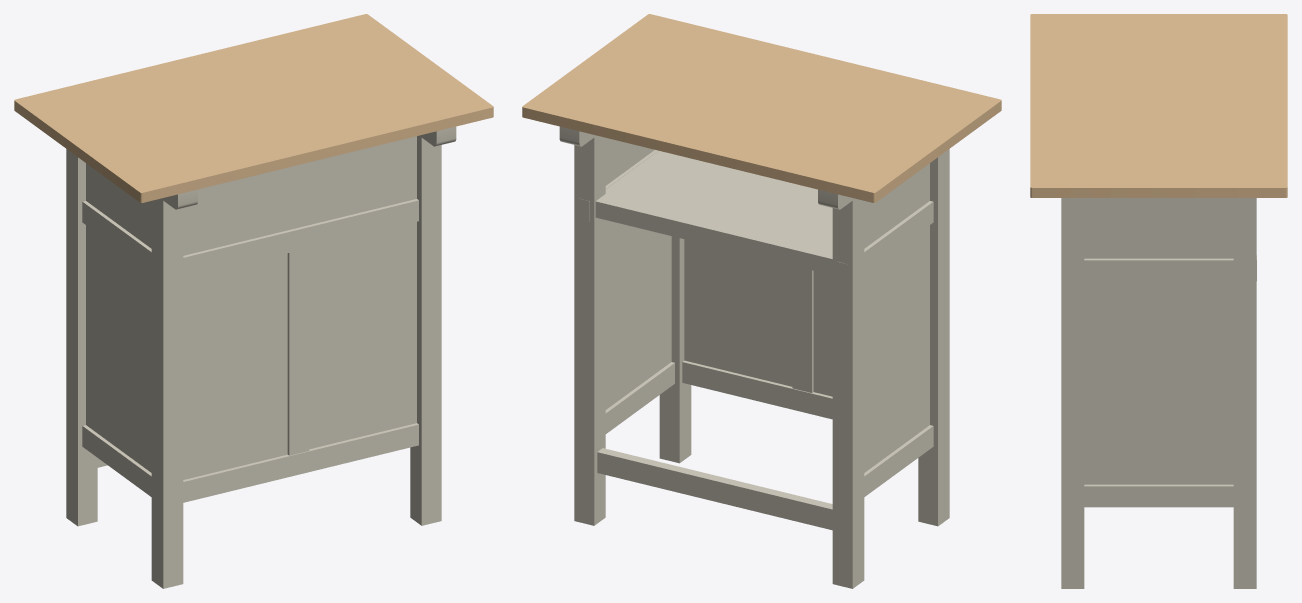
The model's file is TeacherDesk.fbx.
The picture shows the model from 3 angles, left to right: view 1: azimuth 30°, elevation 25°; view 2: azimuth 150°, elevation 25°; view 3: azimuth 270°, elevation 25°; orthographic projection.
Parts seen in each view (by area): view 1: group_2; view 2: group_2, group_1.003; view 3: group_2.
Boxes of the visible parts, left/top/right/bottom form: group_2: left=14, top=14, right=493, bottom=588; group_2: left=522, top=14, right=1001, bottom=588; group_1.003: left=597, top=448, right=832, bottom=530; group_2: left=1030, top=14, right=1287, bottom=588.
Size of the model in its own units: 80 by 90 by 50.
